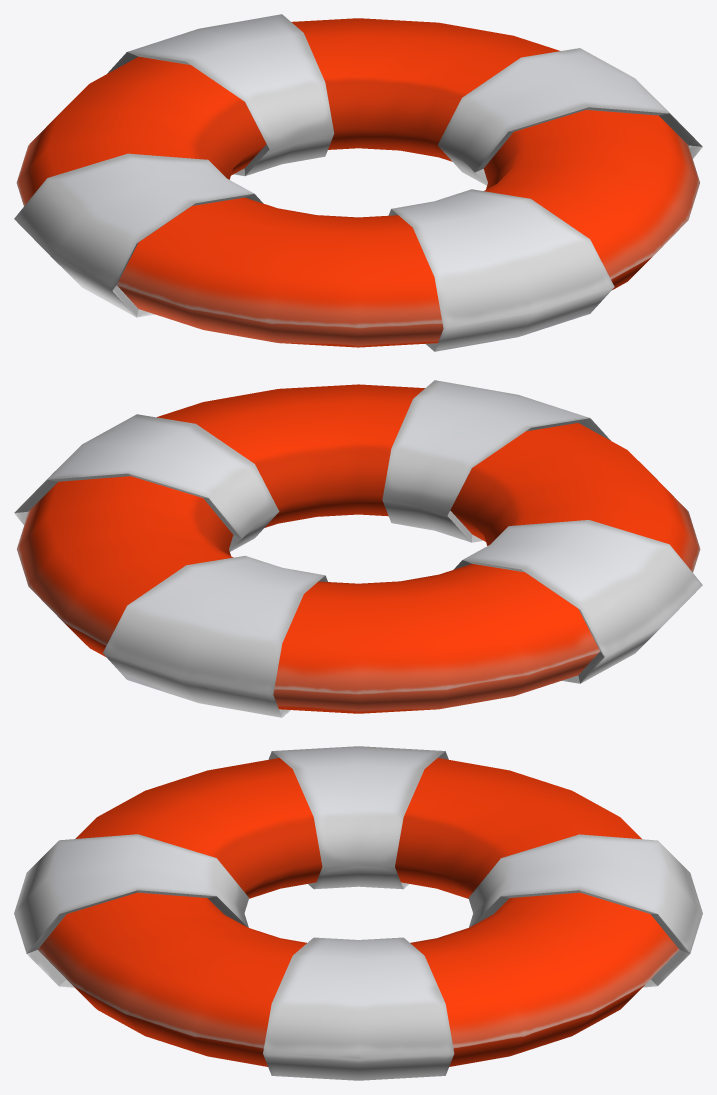
Rendered from Md_Lifebelt.fbx.
3 views of the same model, one above another, from view 1: azimuth 30°, elevation 25°; view 2: azimuth 150°, elevation 25°; view 3: azimuth 270°, elevation 25° (orthographic). The views are drawn at different scales.
Parts seen in each view (by area): view 1: pTorus1; view 2: pTorus1; view 3: pTorus1.
Boxes of the visible parts, x1,y1,x2,y2 form: pTorus1: (14,14,702,351); pTorus1: (14,380,702,717); pTorus1: (14,746,702,1080).
Bounding box in the file's own units: 83.43 × 13.71 × 83.52.
